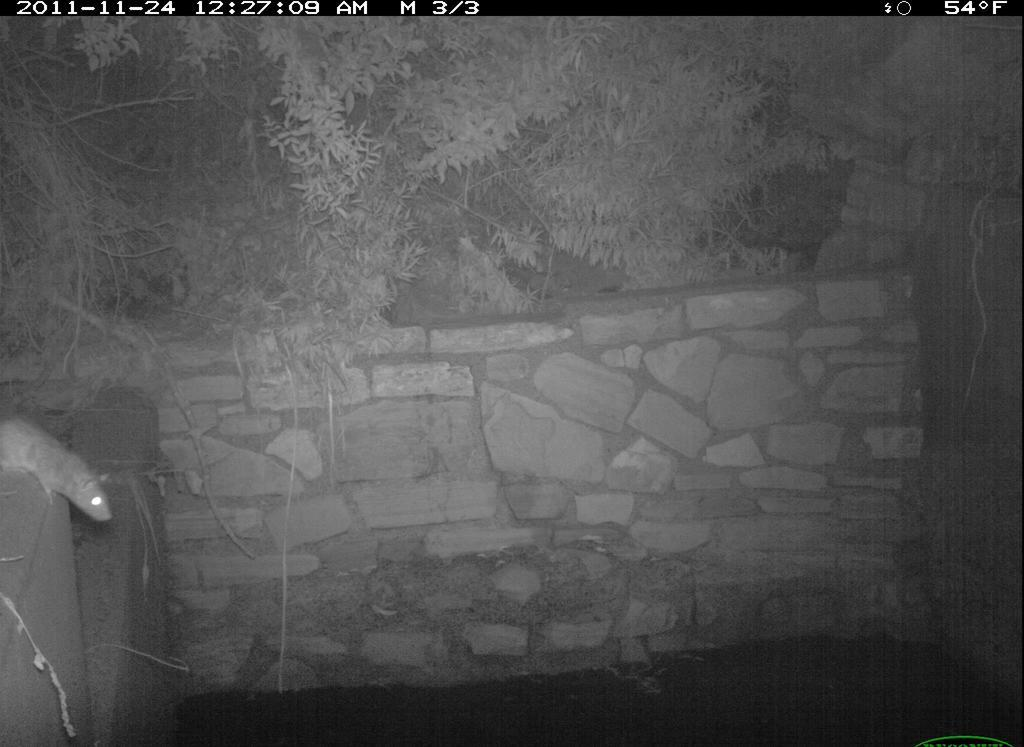rodent: (6, 405, 122, 528)
